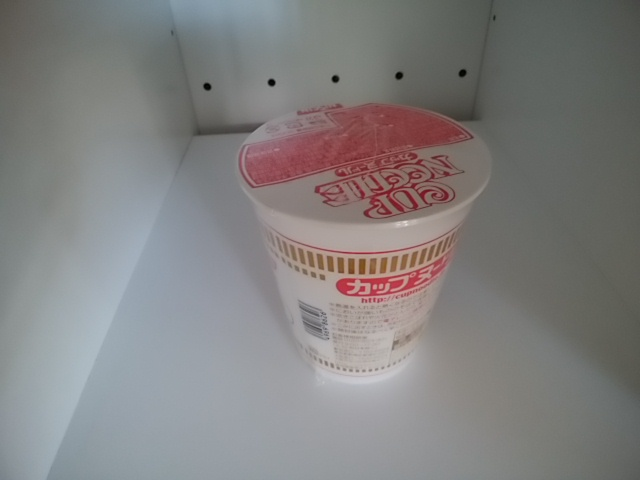cup-ramen: (232, 94, 507, 387)
